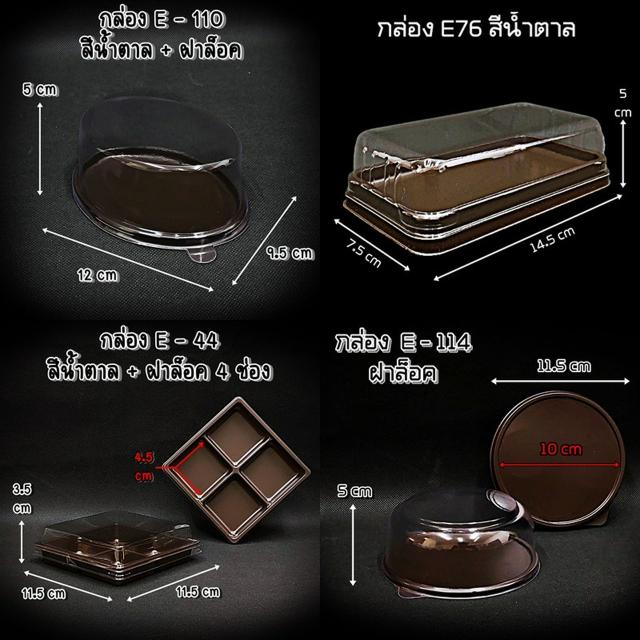Single-Use-Plastic: (344, 102, 610, 256), (72, 98, 249, 263), (162, 398, 310, 542), (491, 392, 625, 526), (380, 488, 540, 599), (35, 511, 201, 585)
